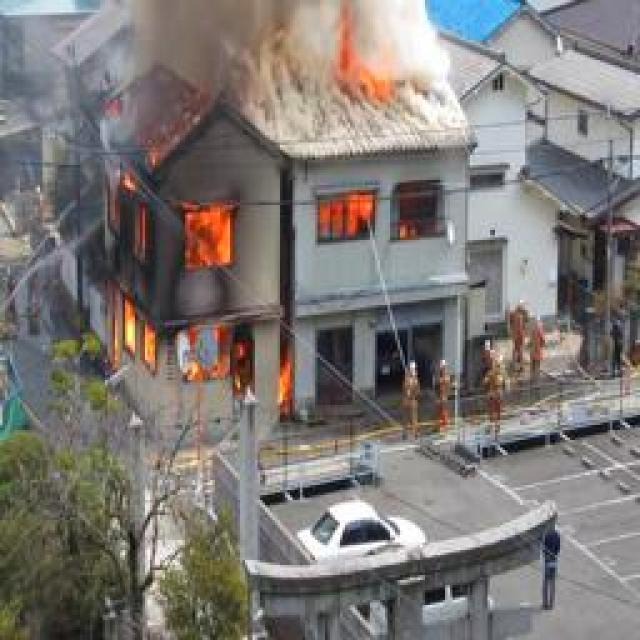Fire: (88, 165, 300, 434), (311, 193, 442, 248), (327, 26, 401, 106)
